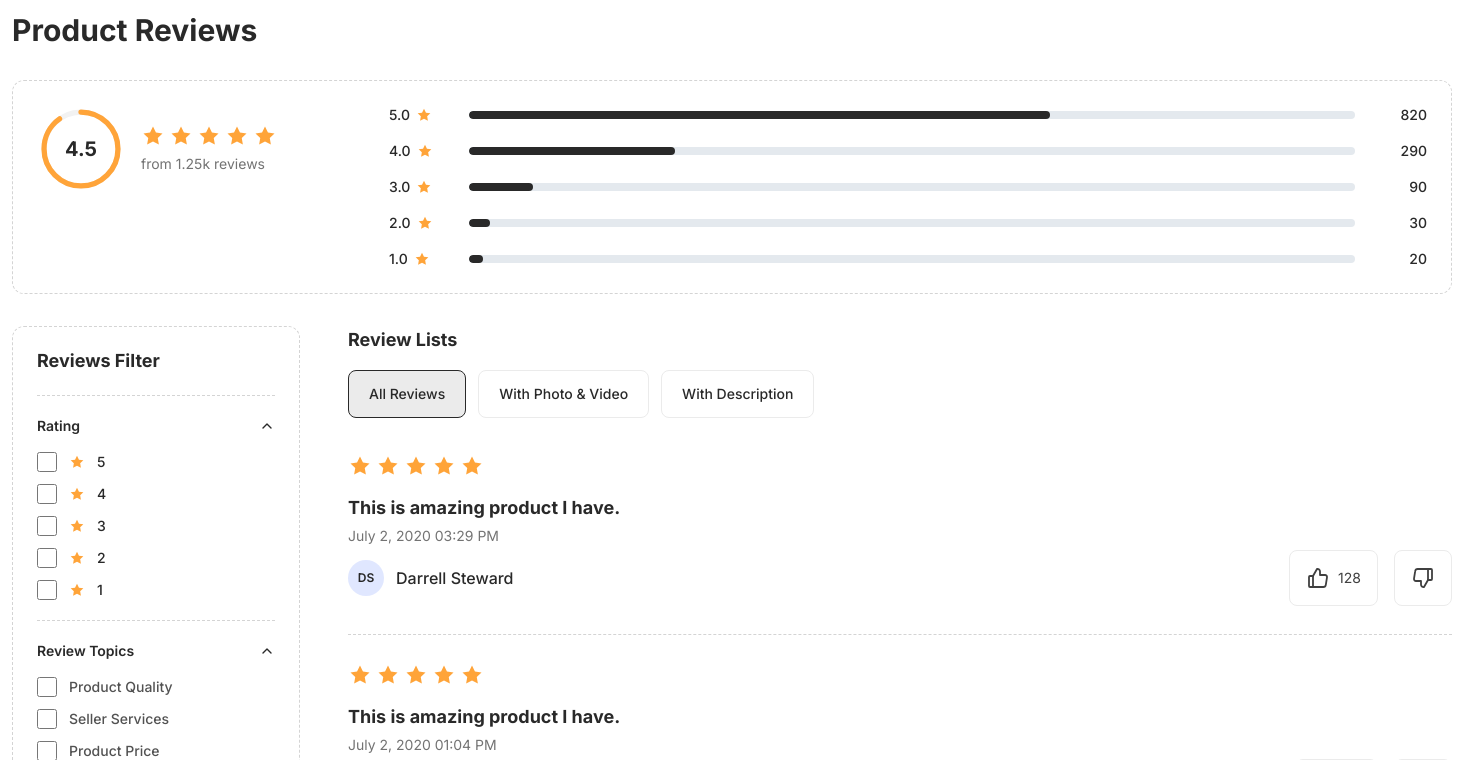
Test case: ReviewsSection › likes a review, updates the count and persists the vote
Expected: the text with test id "like-count" reads "128", [1338, 569, 1361, 586]
Click the button named "Like review by Darrell Steward" at (1334, 578), box [1289, 550, 1378, 606]
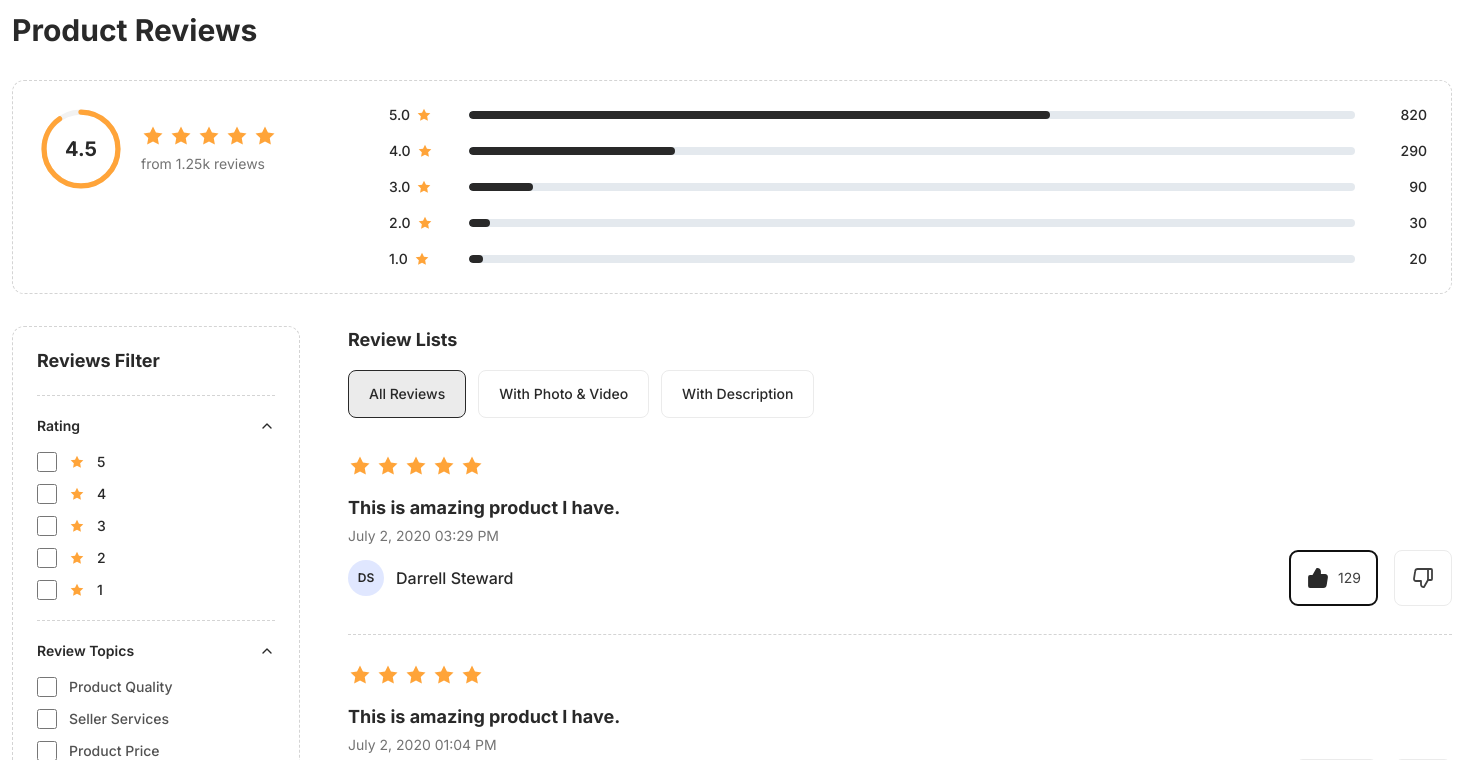
Expected: the text with test id "like-count" reads "129", [1338, 569, 1361, 586]
Click the button named "Dislike review by" at (1423, 578), box [1394, 550, 1452, 606]
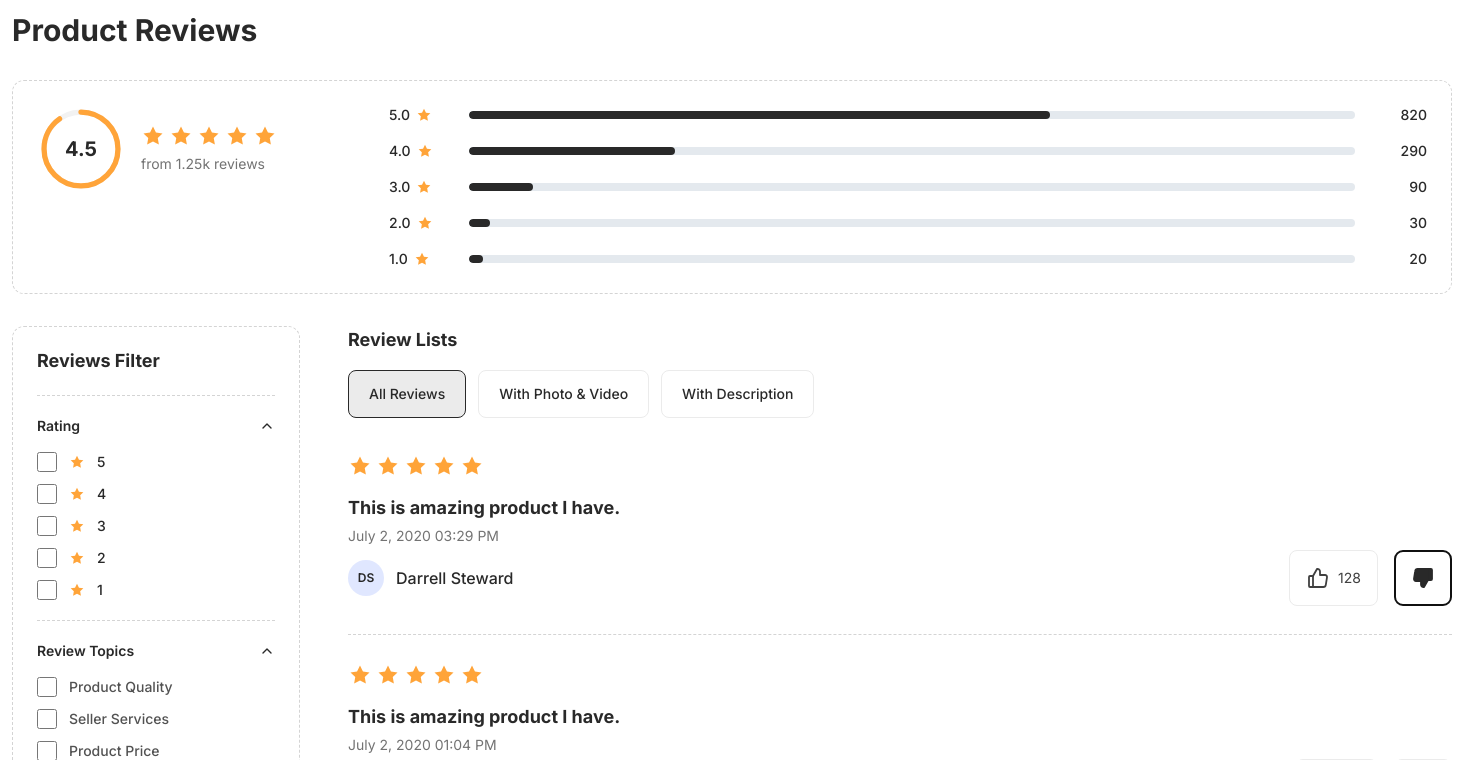
Expected: the text with test id "like-count" reads "128", [1338, 569, 1361, 586]
